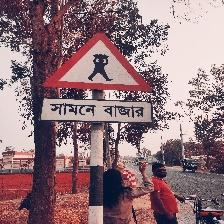Market-in-front: (39, 31, 155, 126)
